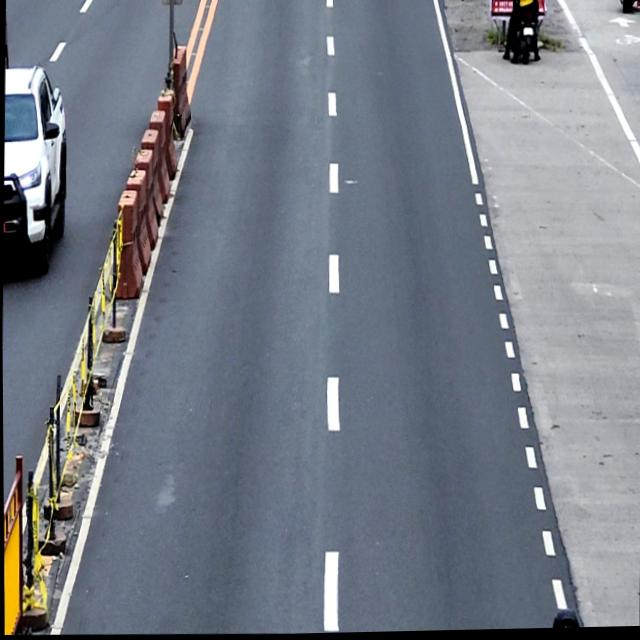Car: (1, 63, 69, 272)
License-Plate: (522, 28, 533, 39)
Motorcycle: (512, 0, 539, 68)
